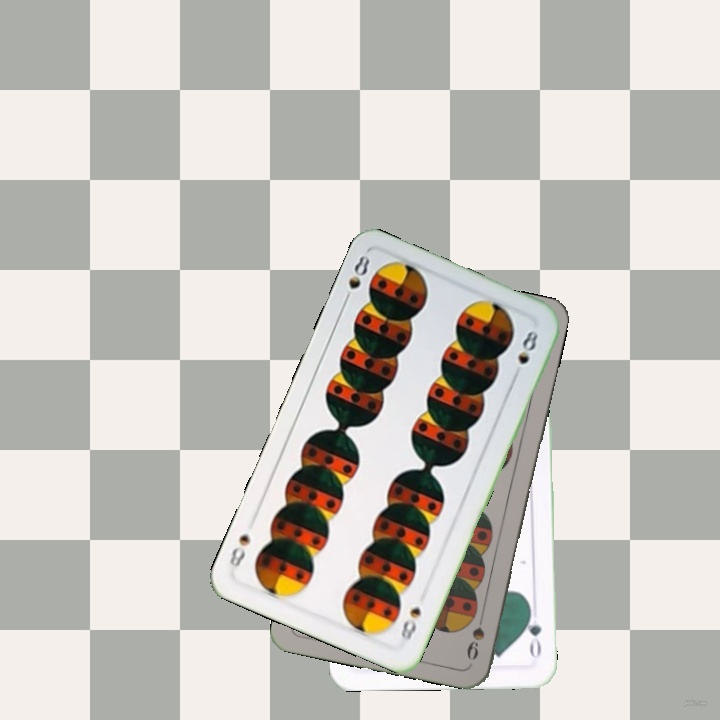GO: (521, 603, 544, 660)
S8: (339, 250, 373, 307), (396, 603, 424, 645)
S9: (462, 605, 488, 662)
